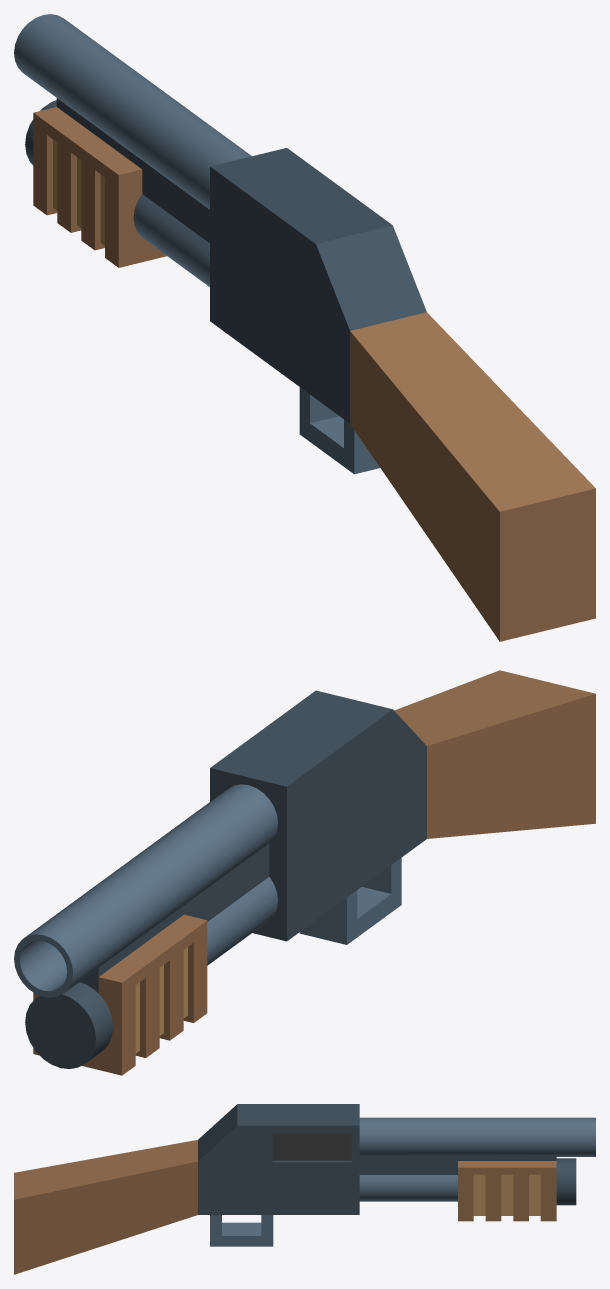
The model's file is shotgun.fbx.
The picture shows the model from 3 angles, top to bottom: view 1: azimuth 30°, elevation 25°; view 2: azimuth 150°, elevation 25°; view 3: azimuth 270°, elevation 25°; orthographic projection. The views are drawn at different scales.
Visible parts, largest first — view 1: shotgun, grip; view 2: shotgun, grip; view 3: shotgun, grip.
Boxes of the visible parts, left/top/right/bottom form: shotgun: left=14, top=14, right=595, bottom=641; grip: left=33, top=107, right=166, bottom=267; shotgun: left=14, top=670, right=595, bottom=1068; grip: left=33, top=914, right=207, bottom=1075; shotgun: left=14, top=1104, right=595, bottom=1274; grip: left=458, top=1161, right=556, bottom=1221.
Bounding box in the file's own units: 0.622 × 1.57 × 5.65.
